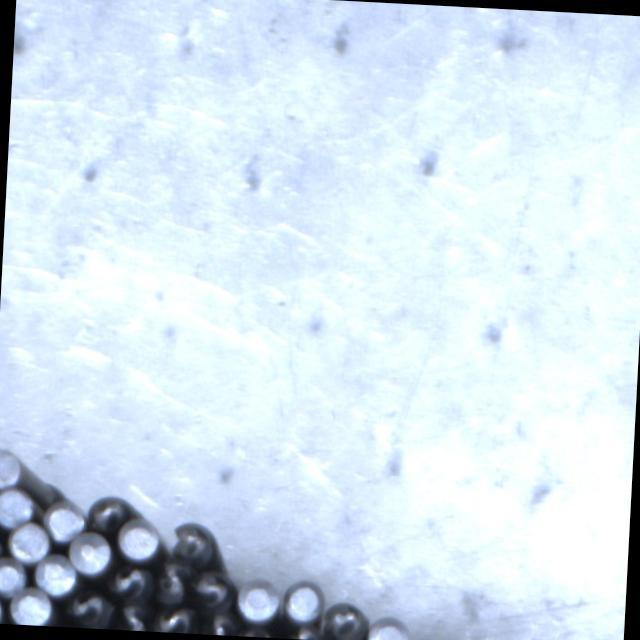tool: (70, 530, 114, 574), (8, 584, 53, 626), (238, 579, 284, 620), (35, 554, 79, 596), (42, 499, 86, 541), (8, 520, 51, 562), (117, 520, 160, 561), (284, 580, 325, 621), (0, 486, 37, 527), (0, 556, 27, 596), (368, 615, 410, 640), (0, 447, 22, 488), (0, 590, 4, 623)
tool_b: (166, 517, 218, 565), (189, 566, 233, 610), (323, 600, 368, 640), (66, 590, 111, 630), (154, 561, 194, 605), (88, 493, 132, 533), (108, 562, 150, 600), (150, 602, 193, 634), (112, 601, 150, 631), (197, 611, 234, 636)
